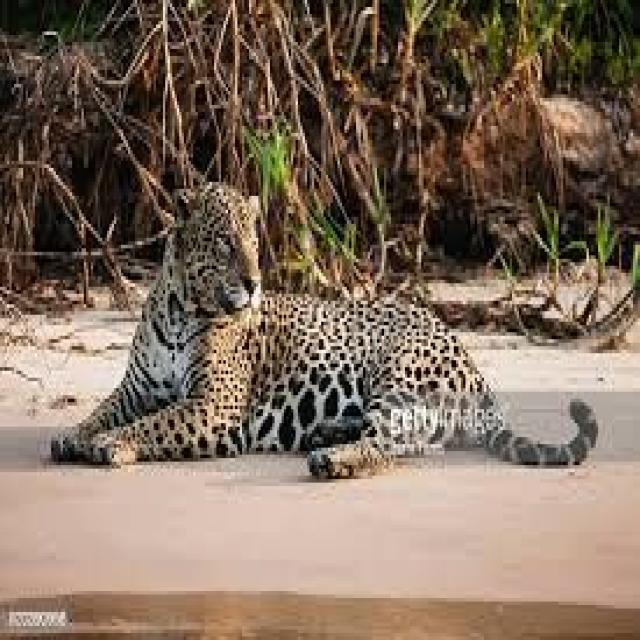Jaguar: (54, 182, 600, 482)
